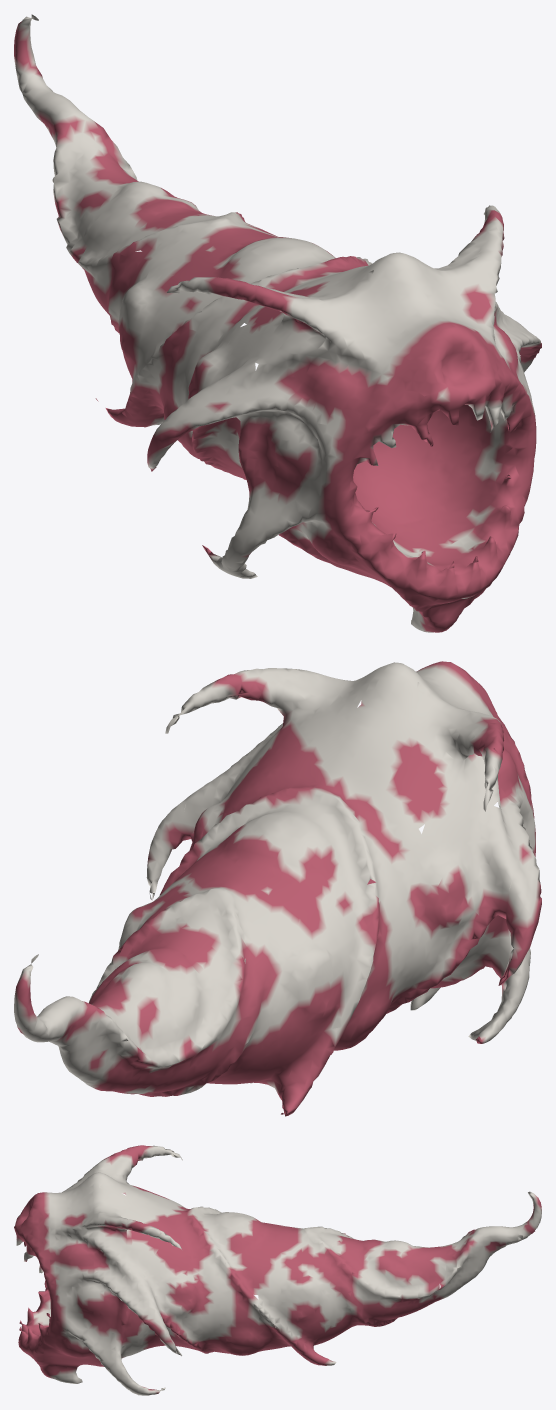
Rendered from mon3d.glb.
The picture shows the model from 3 angles, top to bottom: view 1: azimuth 30°, elevation 25°; view 2: azimuth 150°, elevation 25°; view 3: azimuth 270°, elevation 25°; orthographic projection. The views are drawn at different scales.
Bounding box in the file's own units: 0.9549 × 0.8634 × 1.96.
